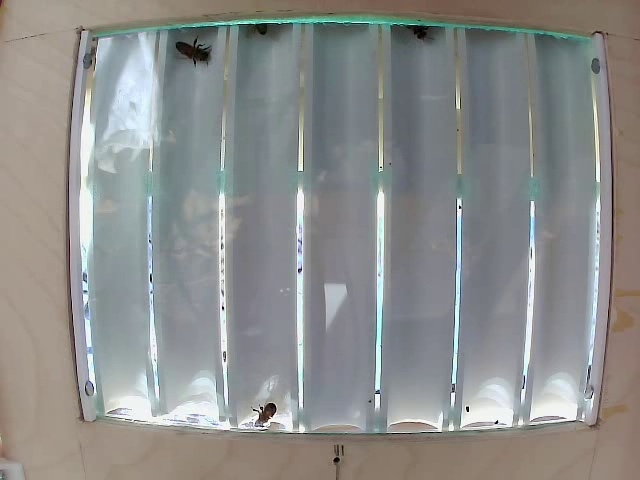bee: (172, 36, 223, 73), (245, 391, 284, 427)
